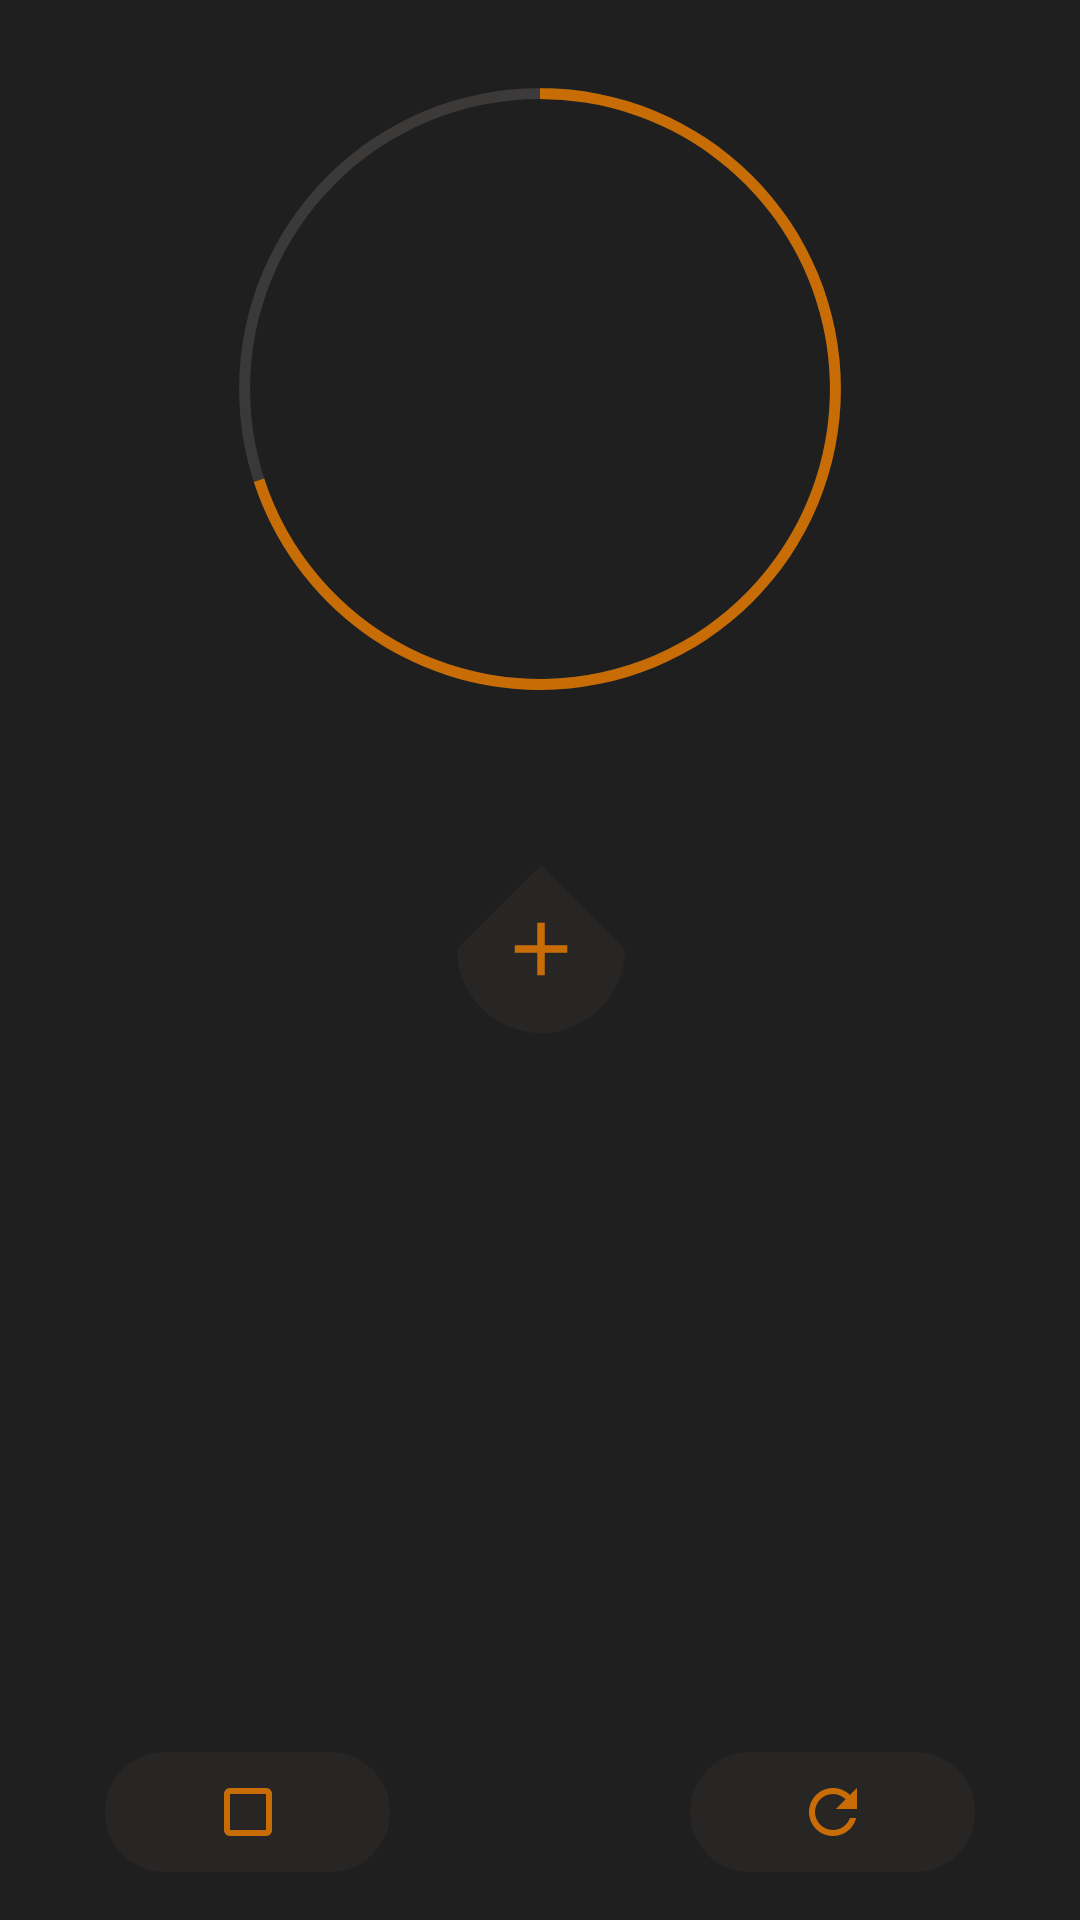

Where to tap for icons on this 1080 x 1920 app screen, as [x,y]:
add: [541,949]
crop square: [247,1812]
refresh: [832,1812]
